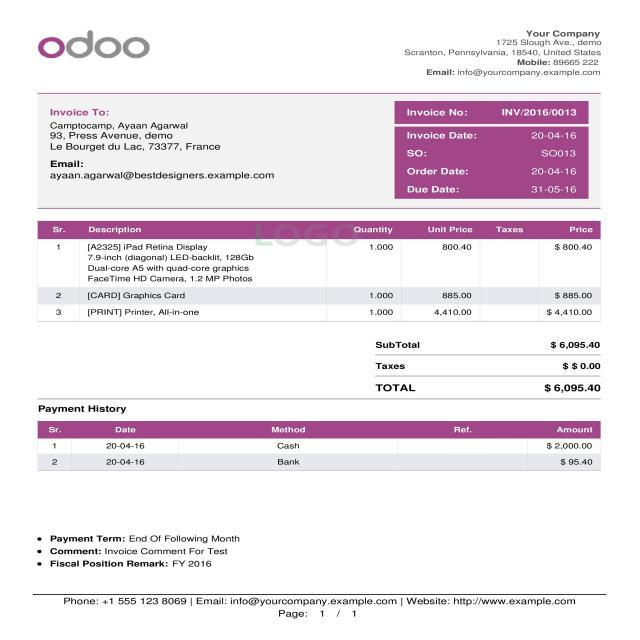customer_address: (49, 130, 228, 153)
customer_name: (49, 119, 188, 131)
due_date: (525, 182, 585, 197)
invoice_date: (521, 128, 584, 142)
invoice_number: (498, 104, 578, 120)
invoice_subtotal: (544, 335, 606, 352)
invoice_total: (536, 379, 604, 397)
item_description: (82, 241, 259, 321)
item_quantity: (357, 240, 397, 318)
item_total_price: (535, 238, 595, 319)
item_unit_price: (414, 241, 474, 319)
supplier_address: (400, 40, 603, 58)
supplier_name: (524, 27, 602, 38)
tax_amount: (543, 359, 604, 373)
